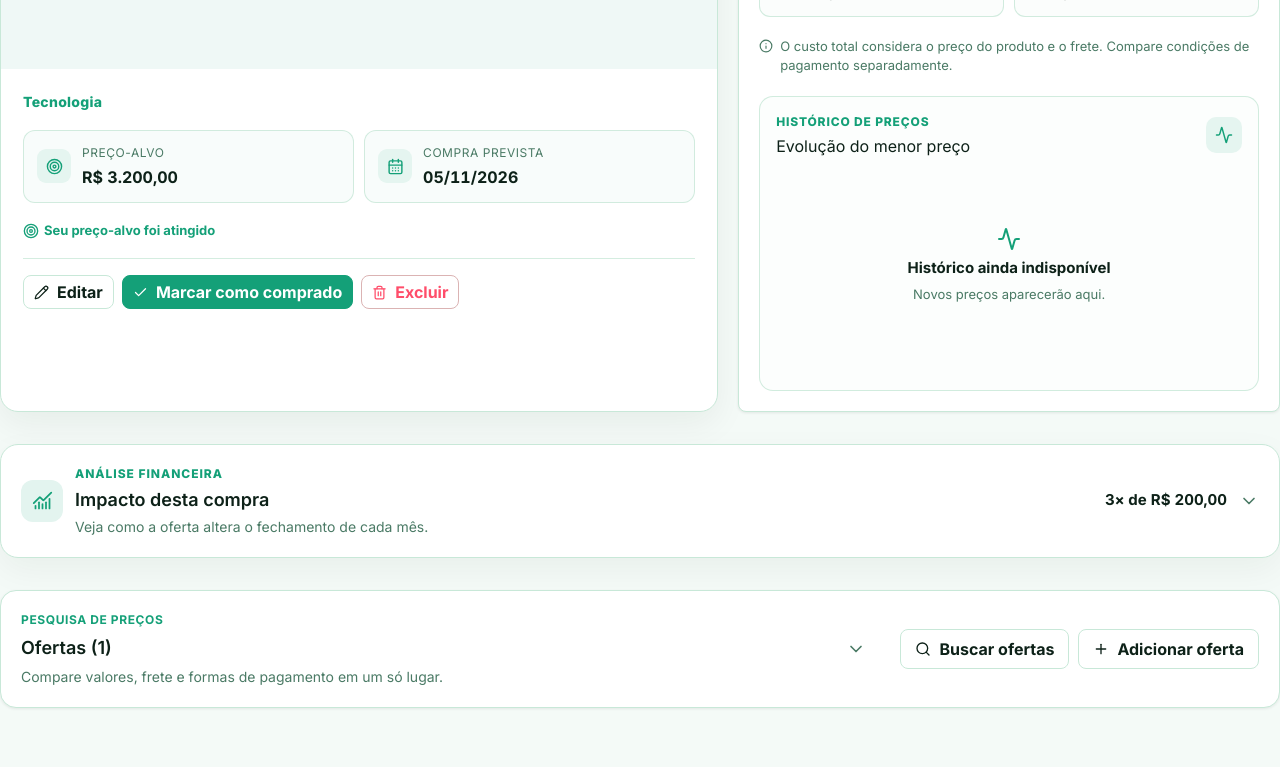
Test: projects the selected offer across its installment months without recording a purchase
(page scrolled)
Expected: the heading "Impacto desta compra" is shown, [75,489,269,510]
Click the button with aria-label "Ver impacto desta compra". click: [42, 501]
box: [1,445,1279,557]
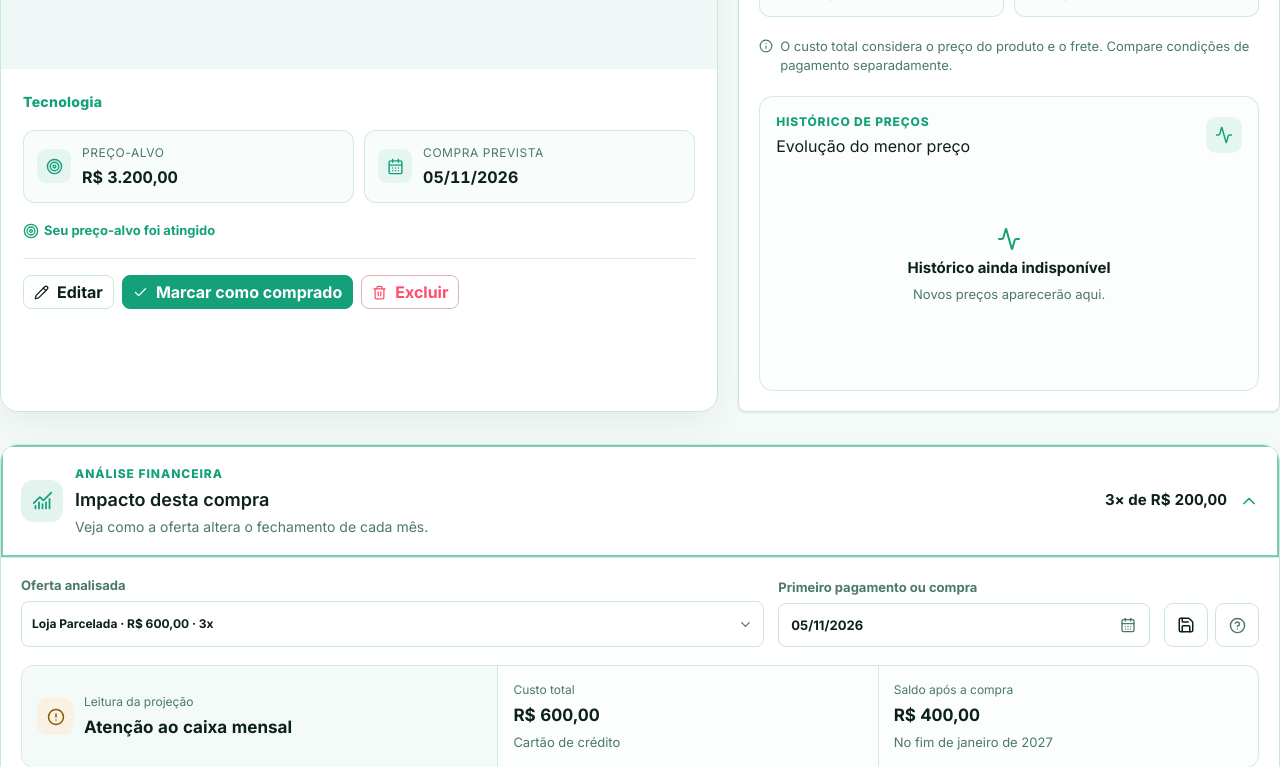
Expected: the button with aria-label "Ocultar impacto desta compra" is expanded, [1,445,1279,557]
Click the button named "Salvar escolhas". click: [1186, 625]
box: [1164,603,1208,647]
(page scrolled)
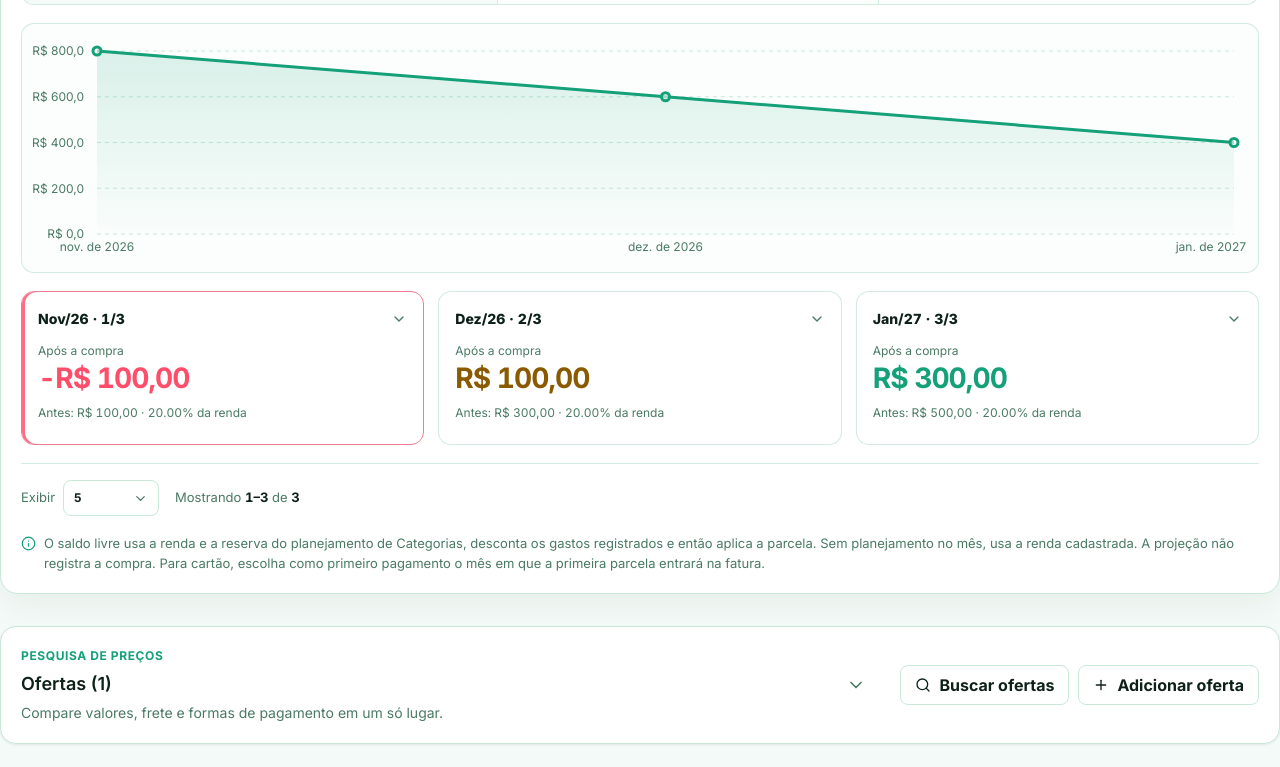
Expected: the number of buttons named "Ver detalhes de" is 3
Expected: the button with aria-label "Ver detalhes de" shows "Nov/26 · 1/3"
Expected: the button with aria-label "Ver detalhes de" shows "Antes: R$ 100,00 · 20.00% da renda"
Click the button with aria-label "Ver detalhes de". click: [63, 319]
box: [21,291,424,445]
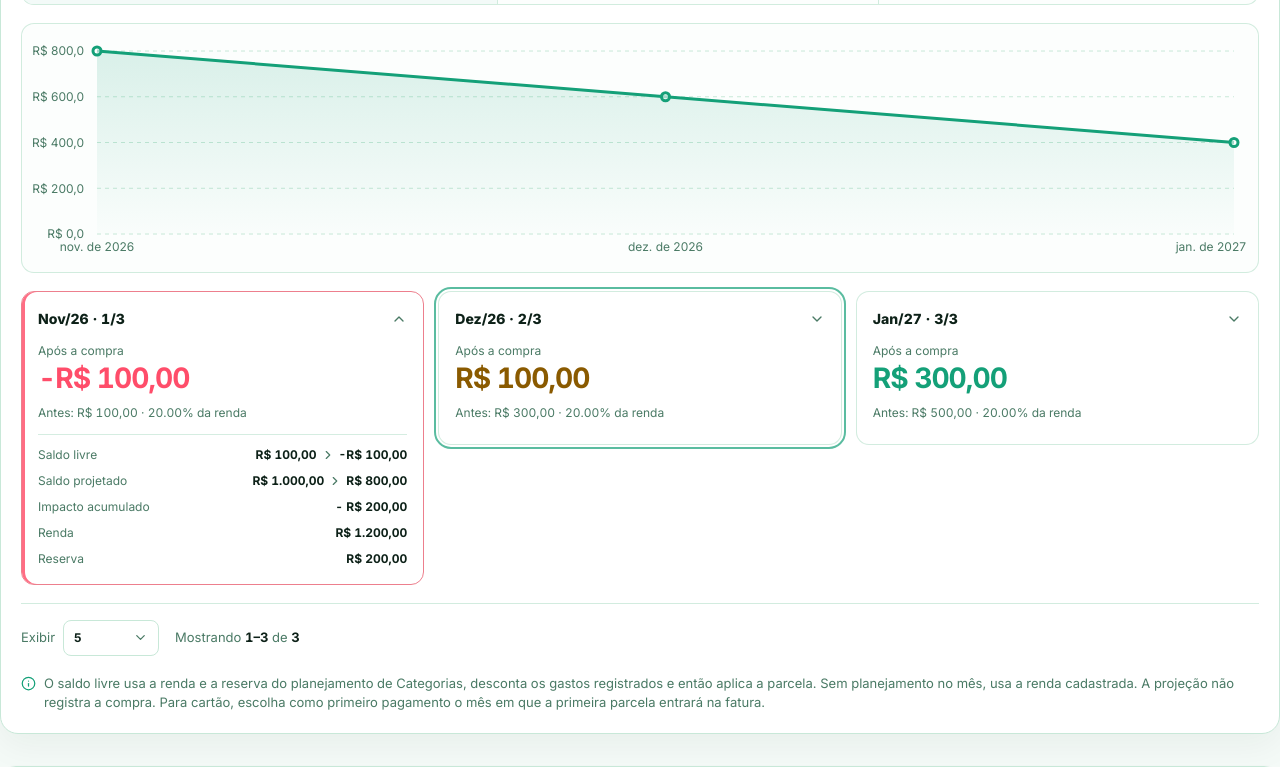
Expected: the button named "Ver detalhes de" is expanded, [21,291,424,585]
Press Enter
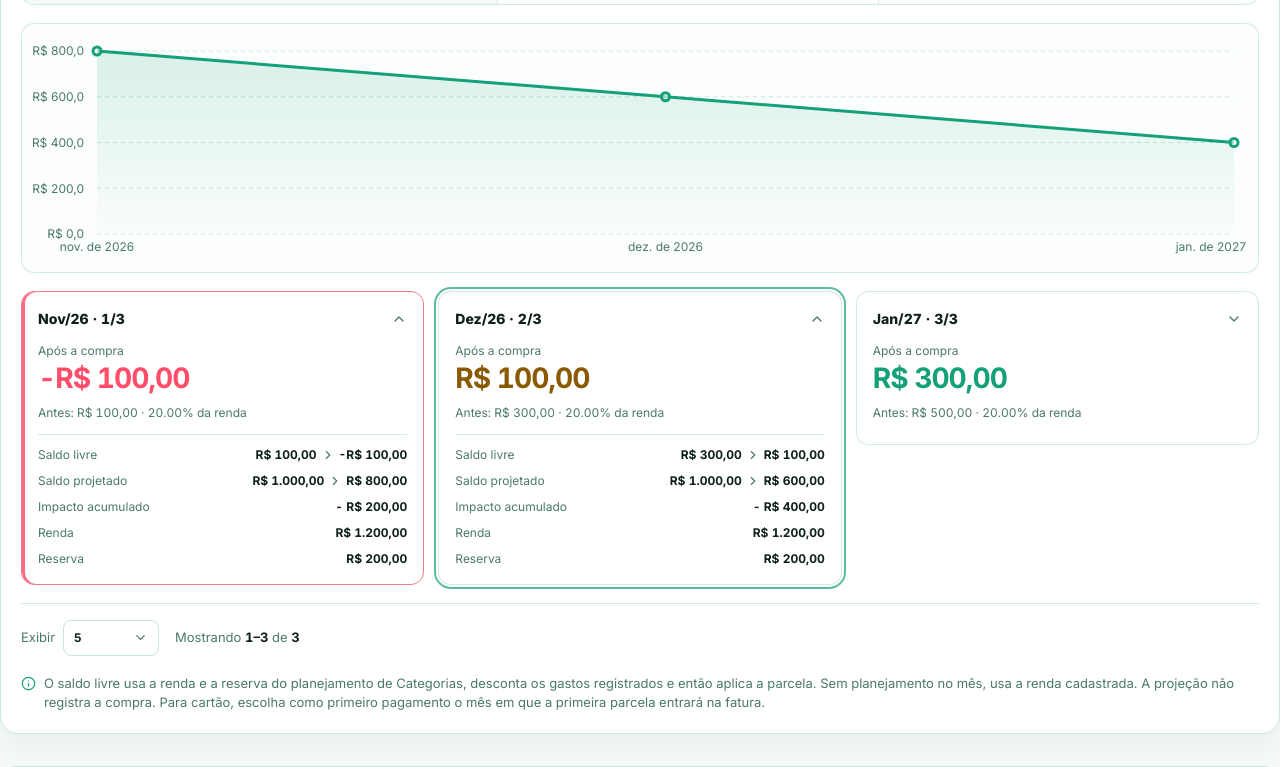
Expected: the button named "Ver detalhes de" is expanded, [438,291,842,585]
Type keys " "
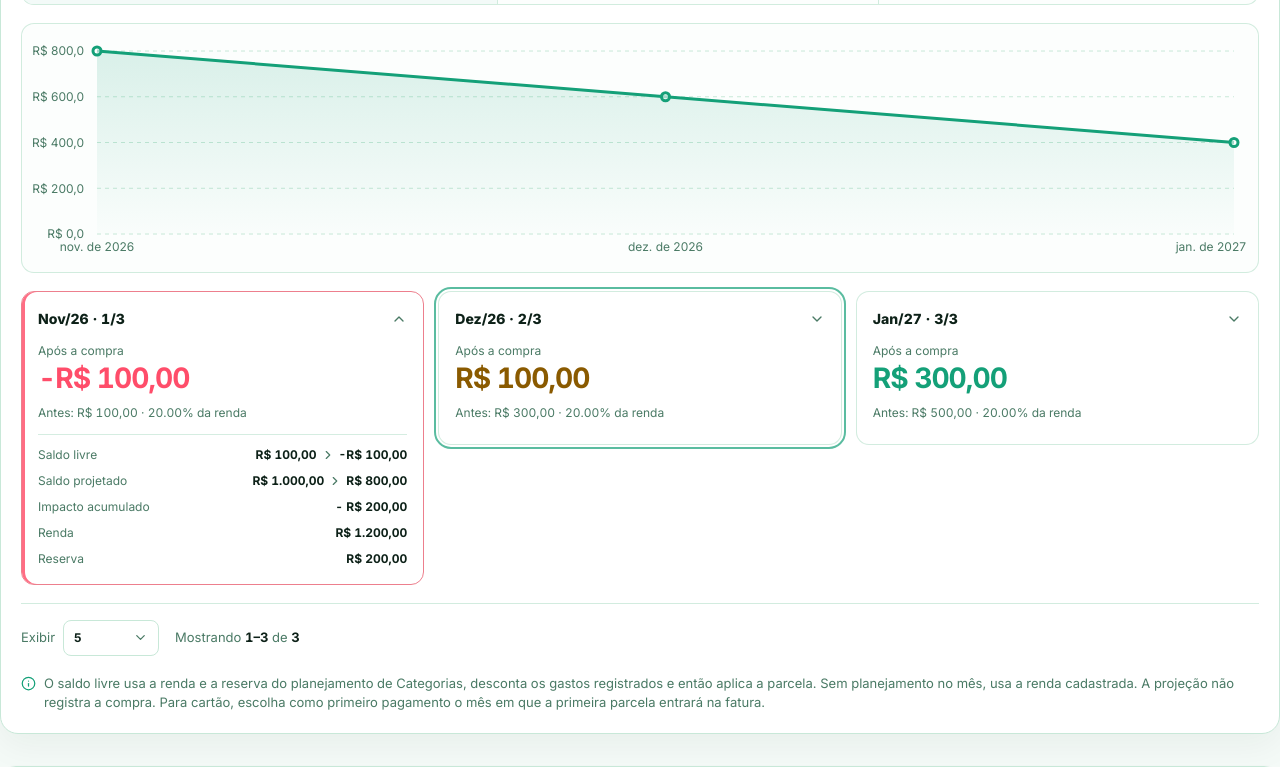
Expected: the text "O saldo livre usa a renda e a reserva do planejamento" is shown, [44,675,1234,710]
Expected: the button with aria-label "Ver detalhes de" is collapsed, [438,291,842,445]
